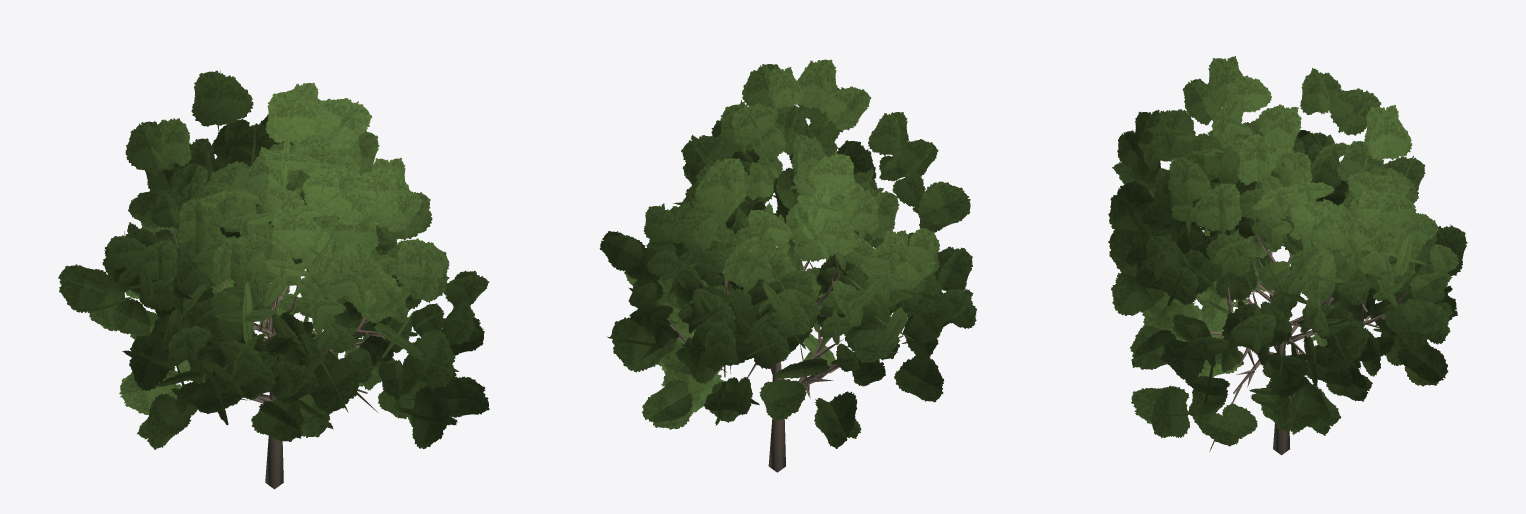
File: encina-bajo.glb
3 views of the same model, side by side, from view 1: azimuth 30°, elevation 25°; view 2: azimuth 150°, elevation 25°; view 3: azimuth 270°, elevation 25° (orthographic). The views are drawn at different scales.
Parts seen in each view (by area): view 1: encina; view 2: encina; view 3: encina.
Part boxes in pixels (x1,y1,x2,y2): encina: [58, 70, 489, 489]; encina: [599, 59, 976, 472]; encina: [1108, 56, 1467, 455].
Bounding box in the file's own units: 8.91 × 8.9 × 8.87.
Materials: 2 (1 with a texture image).
